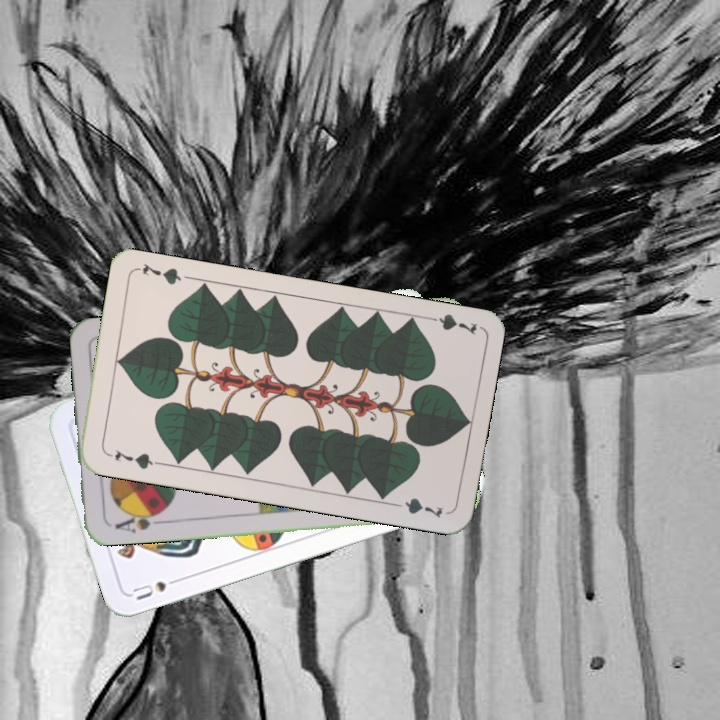G7: (420, 310, 480, 338), (111, 446, 162, 472)
SA: (111, 506, 165, 535)
SU: (129, 573, 186, 603)
